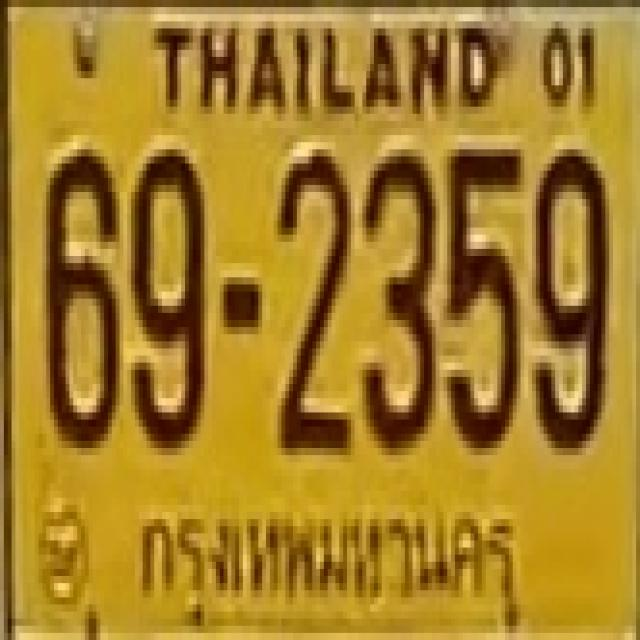2: (276, 142, 349, 448)
3: (358, 142, 432, 441)
5: (444, 142, 520, 448)
6: (42, 142, 116, 441)
9: (127, 142, 201, 441), (532, 142, 605, 441)
BKK: (129, 493, 524, 624)
